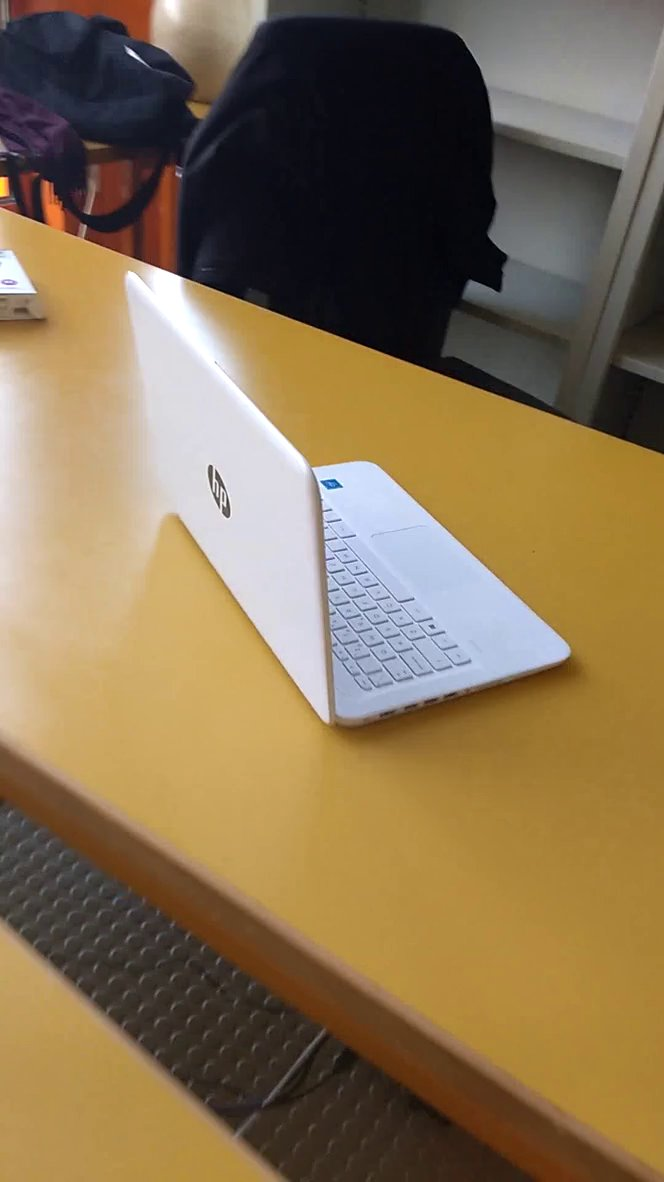bag: (3, 5, 208, 187)
chair: (170, 6, 518, 378)
laptop: (113, 263, 582, 747)
